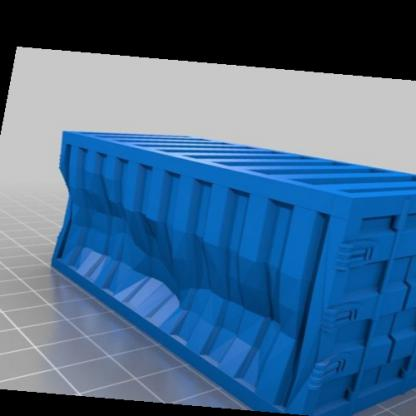Damage: (78, 192, 268, 321)
